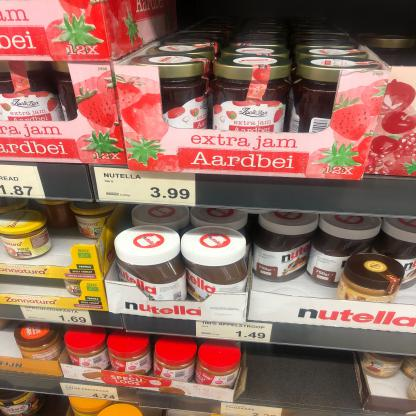prtg: (95, 169, 196, 206), (197, 322, 272, 344), (1, 166, 46, 199), (20, 307, 93, 326), (61, 384, 120, 401), (222, 403, 284, 415)
